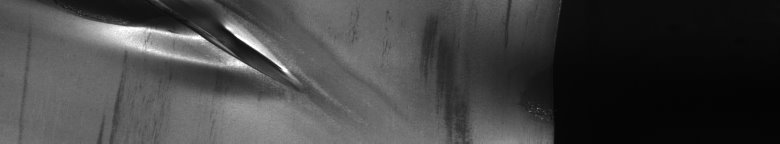ke: (57, 4, 307, 91)
